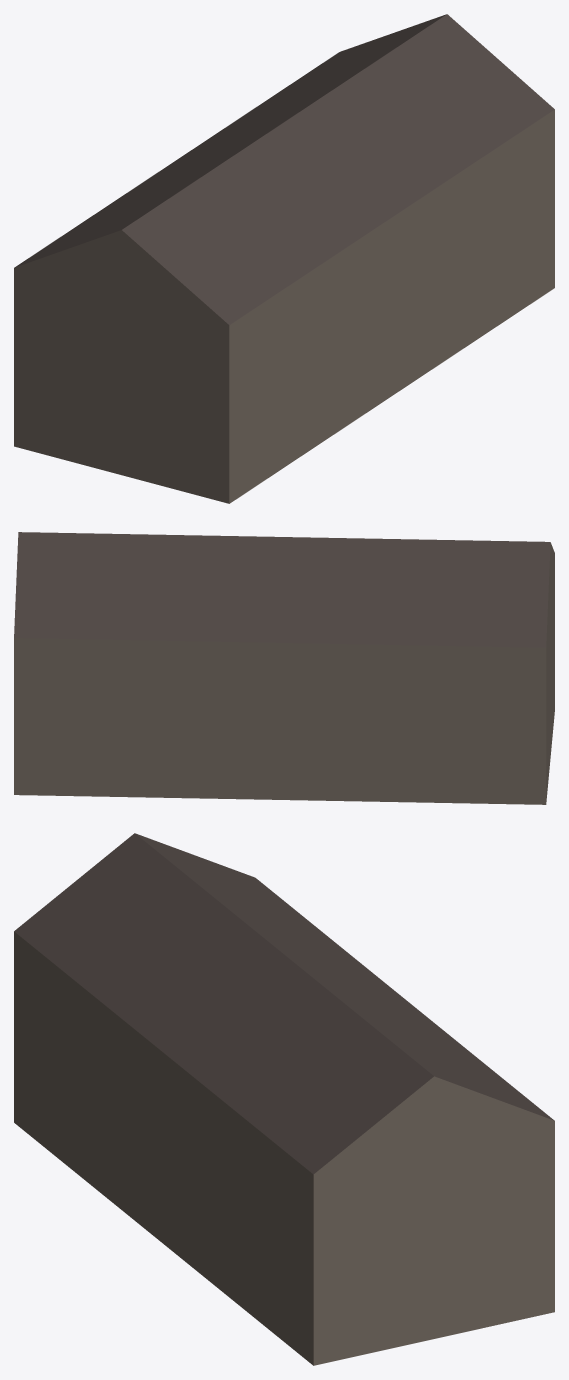
The picture shows the model from 3 angles, top to bottom: view 1: azimuth 30°, elevation 25°; view 2: azimuth 150°, elevation 25°; view 3: azimuth 270°, elevation 25°; orthographic projection. The views are drawn at different scales.
Visible parts, largest first — view 1: HP-w859088514; view 2: HP-w859088514; view 3: HP-w859088514.
Boxes of the visible parts, x1,y1,x2,y2 form: HP-w859088514: (14,14,554,503); HP-w859088514: (14,532,554,804); HP-w859088514: (14,833,554,1365).
Bounding box in the file's own units: 19.97 × 8.24 × 15.38.
